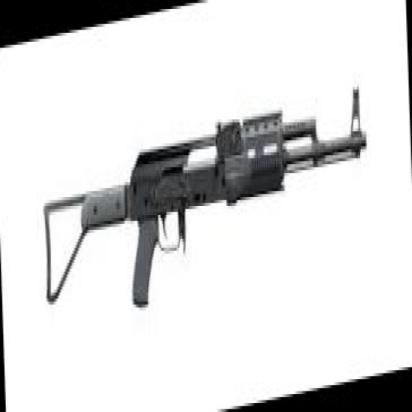Gun: (26, 84, 370, 340)
